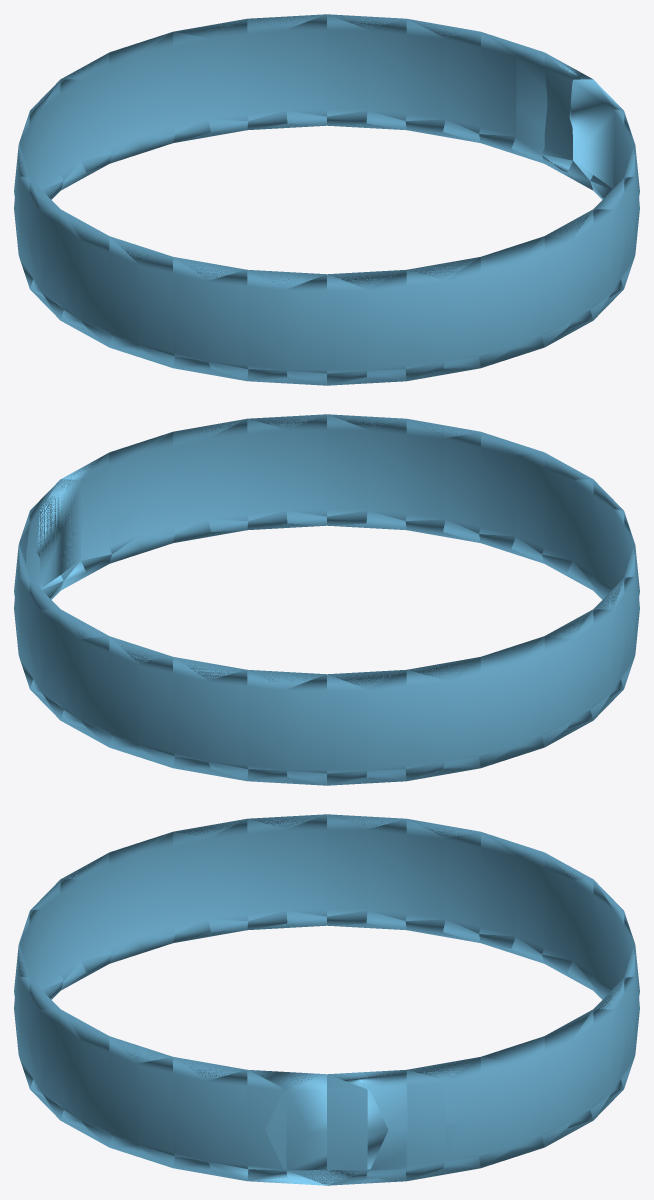
The model's file is hover_ring.glb.
The picture shows the model from 3 angles, top to bottom: view 1: azimuth 30°, elevation 25°; view 2: azimuth 150°, elevation 25°; view 3: azimuth 270°, elevation 25°; orthographic projection.
Parts seen in each view (by area): view 1: hover_ring; view 2: hover_ring; view 3: hover_ring.
Part boxes in pixels (x1,y1,x2,y2): hover_ring: (14, 14, 639, 385); hover_ring: (14, 414, 639, 785); hover_ring: (14, 814, 639, 1185).
Bounding box in the file's own units: 1.02 × 0.2 × 1.02.
